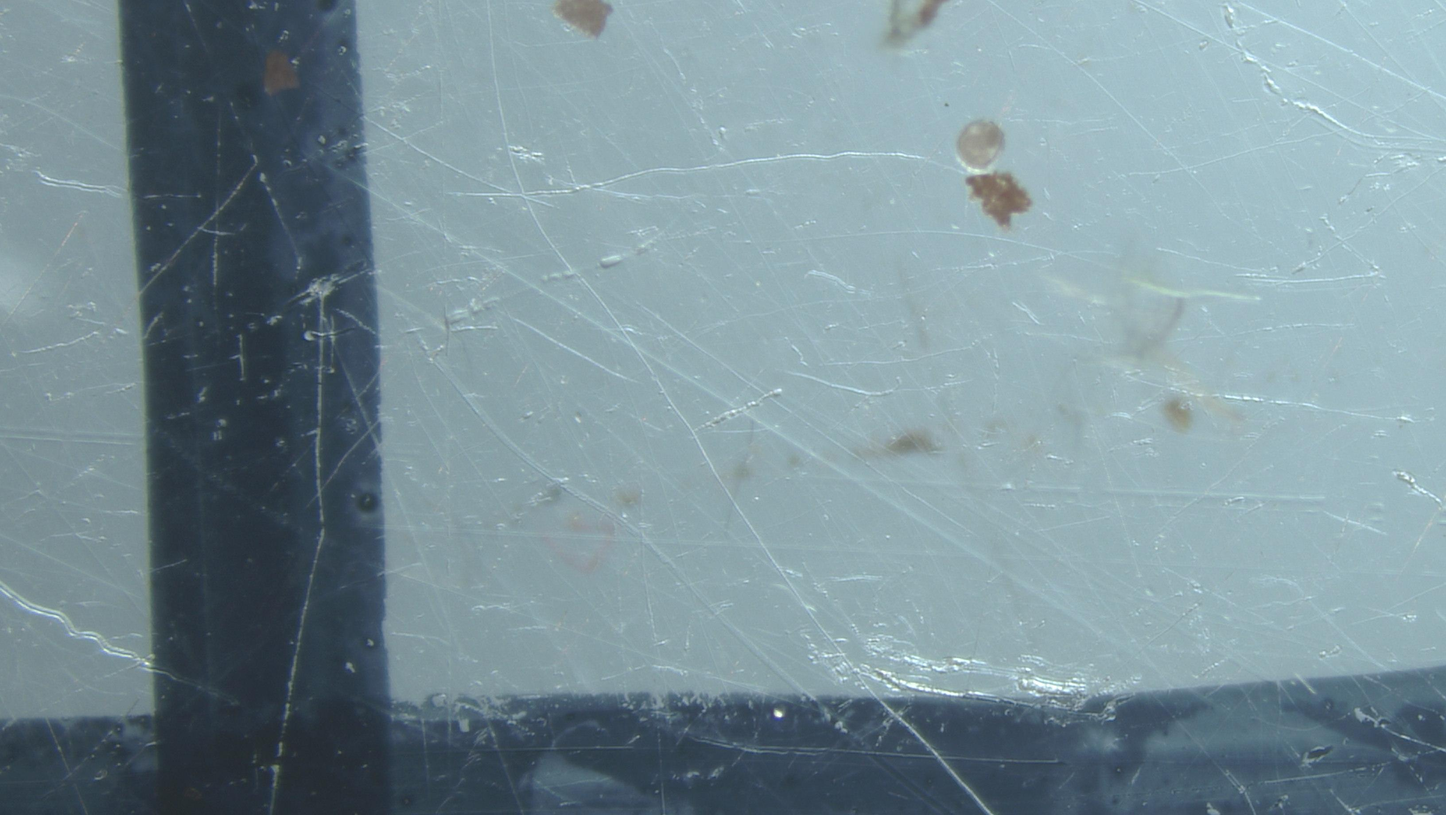dead: (956, 120, 1005, 174)
